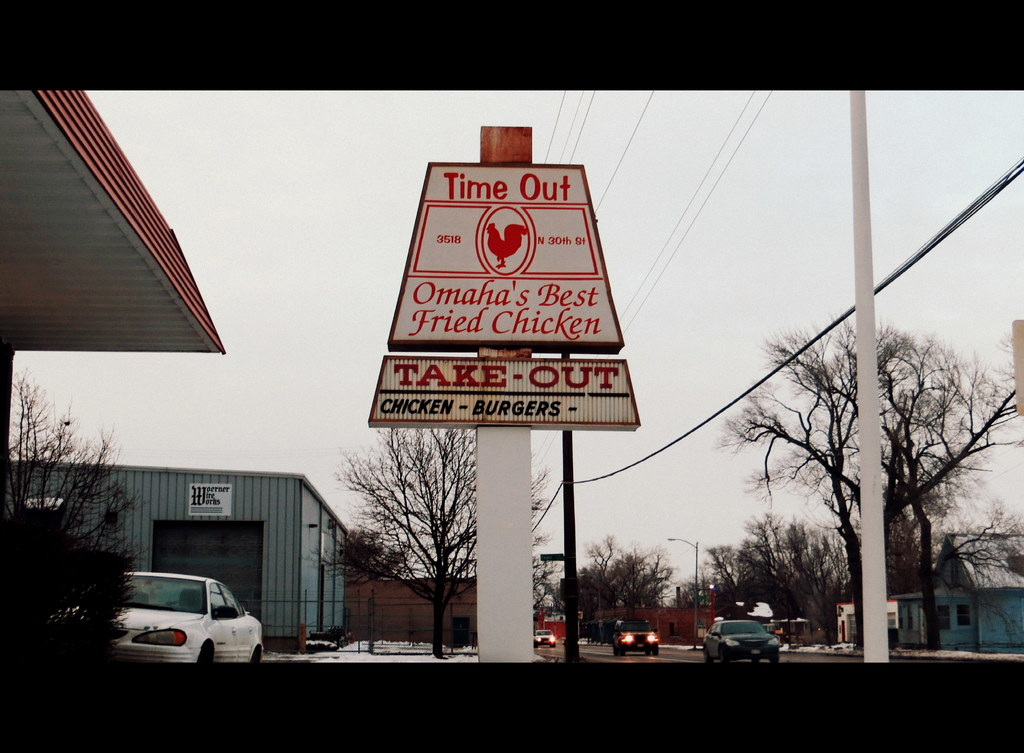Car: (38, 564, 266, 662), (705, 614, 788, 665), (608, 612, 659, 658), (528, 627, 556, 646)
